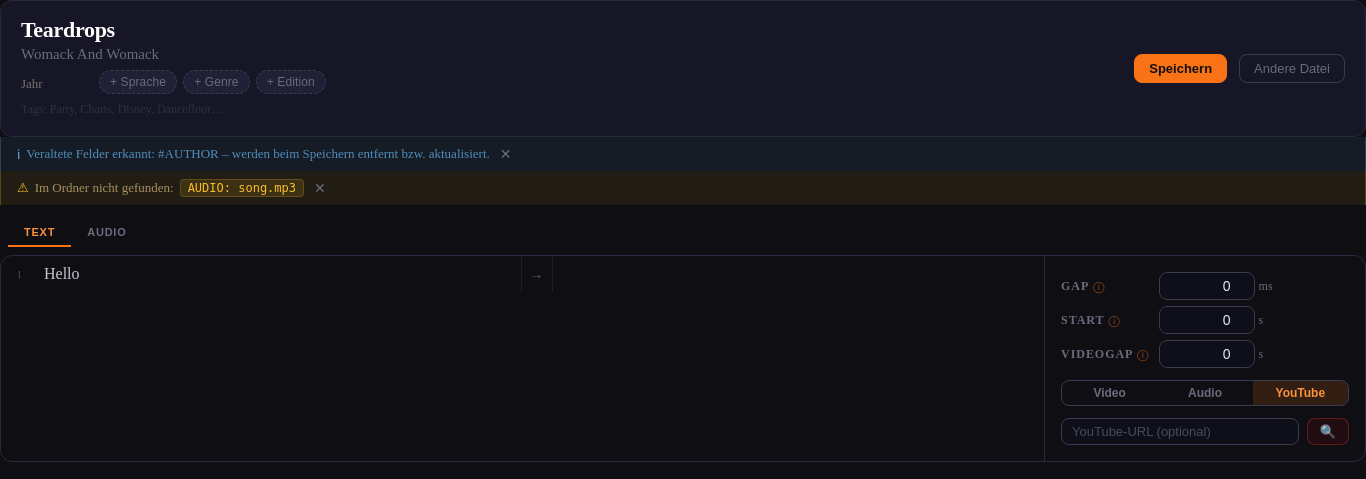
Test case: SongView › dismisses deprecation banner on click
The width and height of the screenshot is (1366, 479).
Click the 1st button "✕": (506, 154) [496,145,516,163]
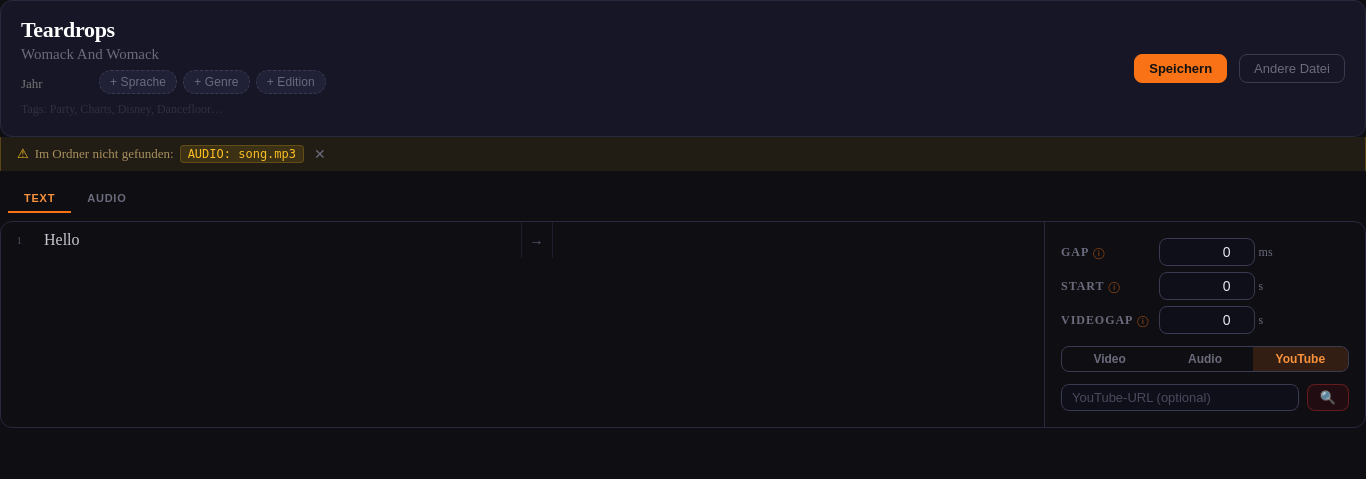
Now the text "Veraltete Felder erkannt" is gone
